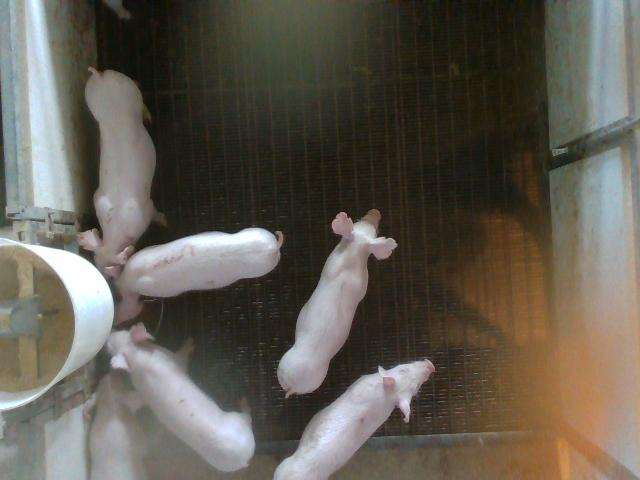pig-3: (114, 228, 282, 323)
